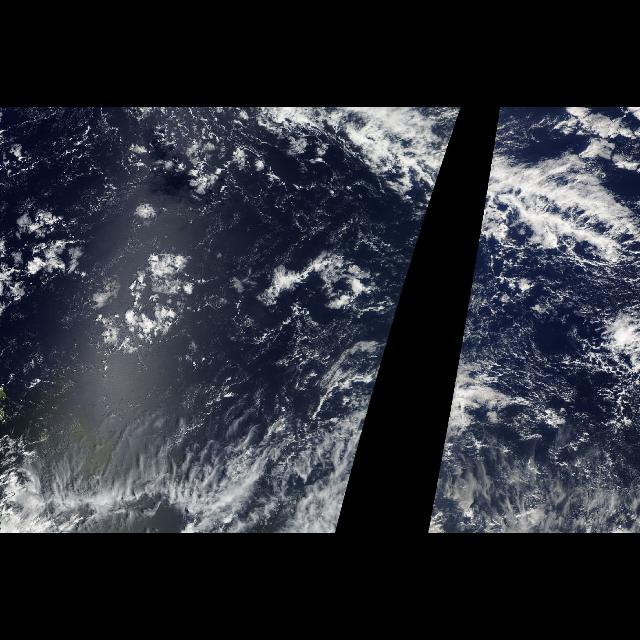Fish: (258, 107, 462, 320), (466, 107, 640, 320)
